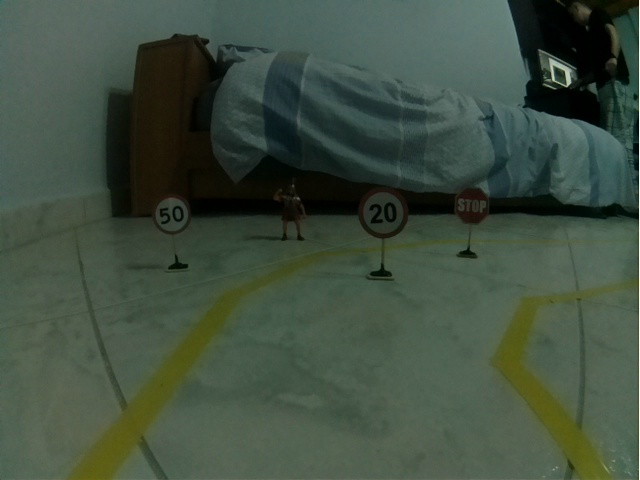Person: (273, 178, 308, 241)
Speed Limit 20: (359, 187, 409, 239)
Speed Limit 50: (152, 194, 192, 235)
Stop: (454, 187, 490, 225)
